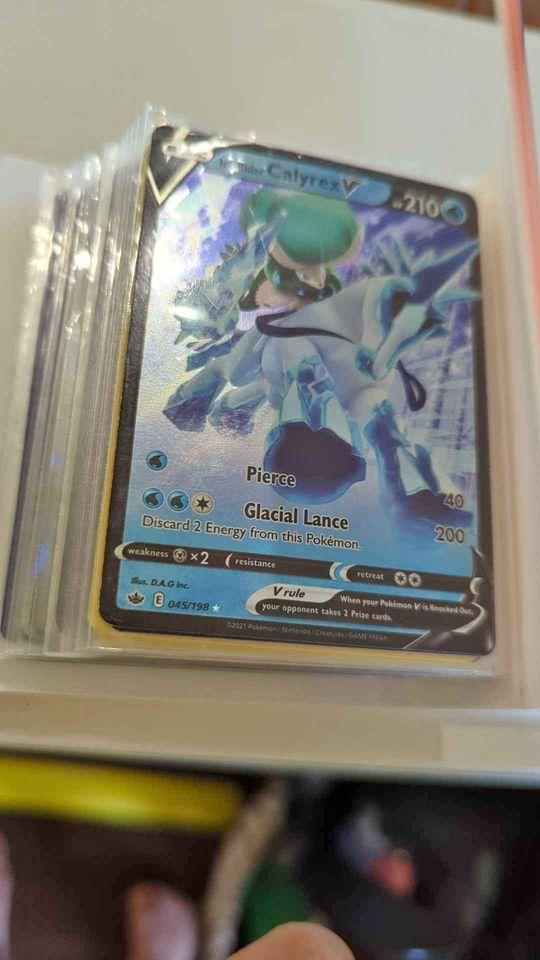card: (98, 124, 498, 656)
name: (214, 151, 365, 201)
set num: (165, 597, 213, 617)
set symbol: (123, 588, 148, 608)
